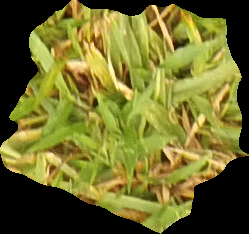grass: (2, 1, 248, 233)
